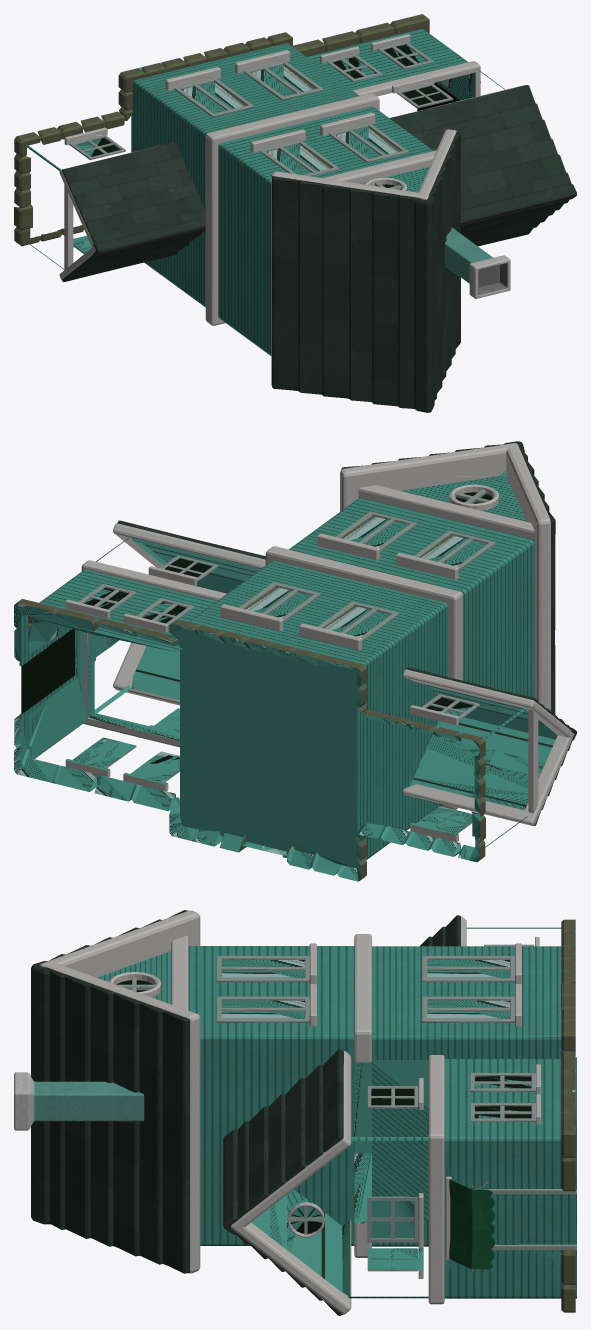
Rendered from rumah.obj.
3 renders of one model, top to bottom at view 1: azimuth 30°, elevation 25°; view 2: azimuth 150°, elevation 25°; view 3: azimuth 270°, elevation 25°, orthographic. The views are drawn at different scales.
Parts seen in each view (by area): view 1: Object.1, Object.7, Object.5; view 2: Object.1, Object.9, Object.6, Object.2, Object.5, Object.7; view 3: Object.1, Object.3, Object.8, Object.7, Object.4.
Part boxes in pixels (box(x1,y1,x2,y2)): Object.1: box(14, 14, 576, 412); Object.7: box(392, 75, 453, 108); Object.5: box(64, 127, 125, 159); Object.1: box(14, 441, 576, 881); Object.9: box(65, 737, 136, 777); Object.6: box(410, 806, 472, 842); Object.2: box(123, 751, 179, 791); Object.5: box(410, 694, 479, 725); Object.7: box(148, 555, 218, 585); Object.1: box(14, 910, 576, 1315); Object.3: box(367, 1193, 423, 1248); Object.8: box(367, 1248, 423, 1278); Object.7: box(367, 1078, 423, 1109); Object.4: box(287, 1202, 324, 1237).
Bounding box in the file's own units: 0.5119 × 0.246 × 0.4878.
1 material, 1 textured.
